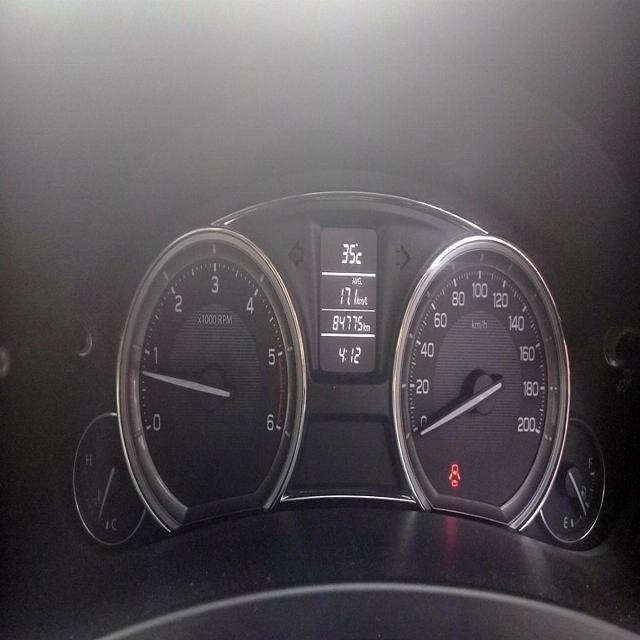odometer: (331, 313, 364, 334)
